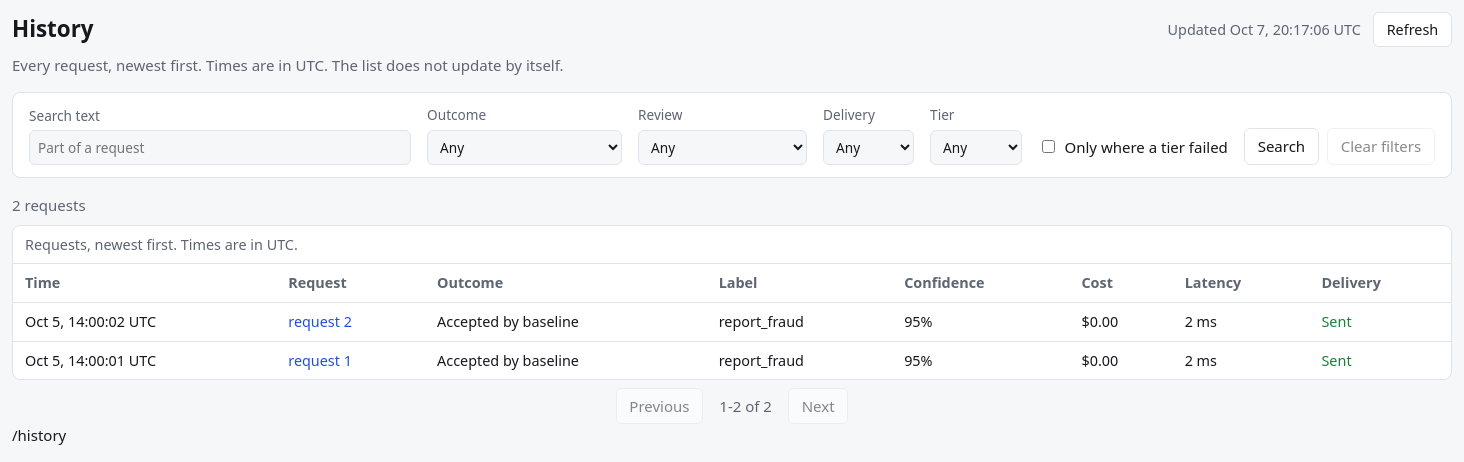
Test: filters › says when nothing matches, and clears the filters
Expected: the text "2 requests" is shown, left=12, top=195, right=86, bottom=215
Type "nothing like this" into the search field labelled "Search text" at [220, 148], box left=29, top=130, right=411, bottom=165
Then press Enter
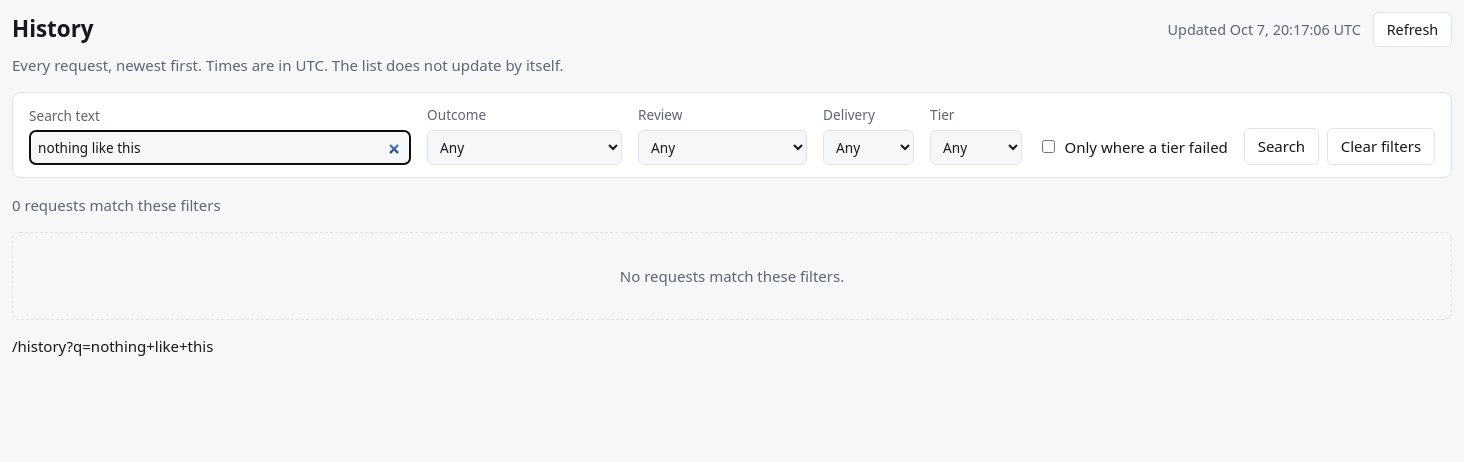
Expected: the text "No requests match these filters." is shown, left=12, top=232, right=1452, bottom=320
Click the button "Clear filters" at [1381, 147], box left=1327, top=128, right=1435, bottom=165
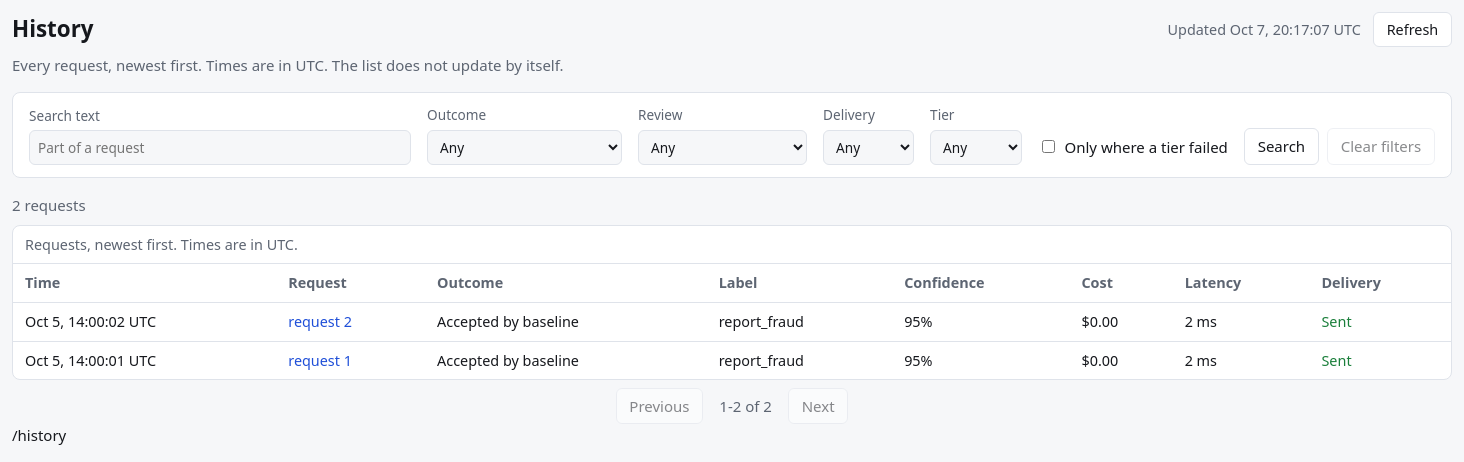
Expected: the text "2 requests" is shown, left=12, top=195, right=86, bottom=215
Expected: the text named "Address" reads "/history", left=12, top=425, right=66, bottom=445
Expected: the search field labelled "Search text" is empty, left=29, top=130, right=411, bottom=165
